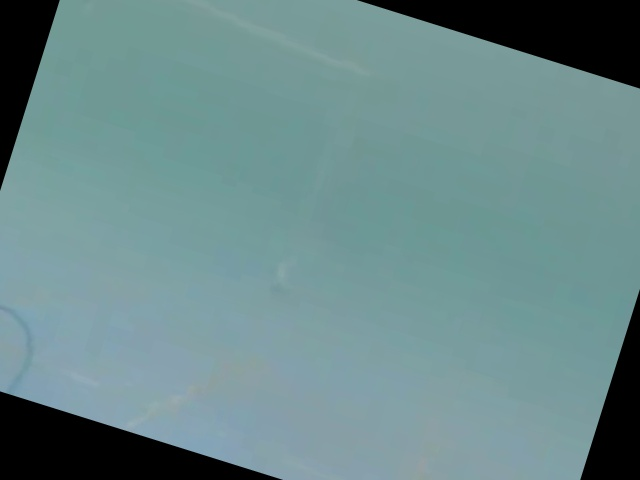gate: (41, 0, 332, 308)
